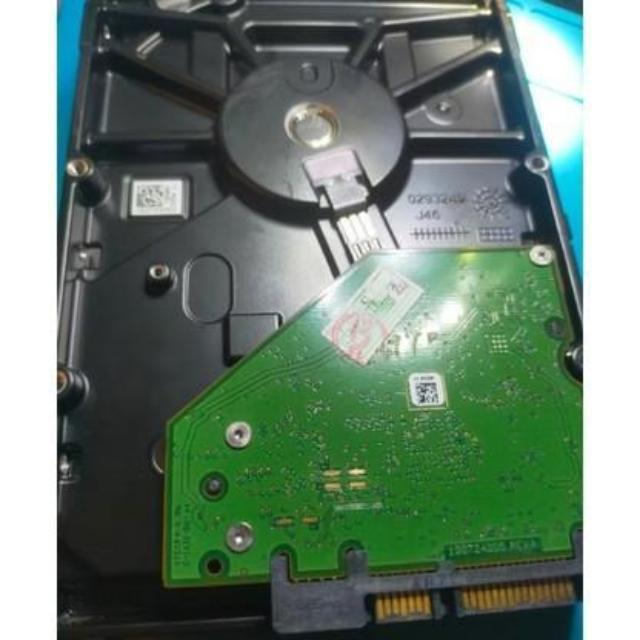DISK: (54, 0, 586, 634)
